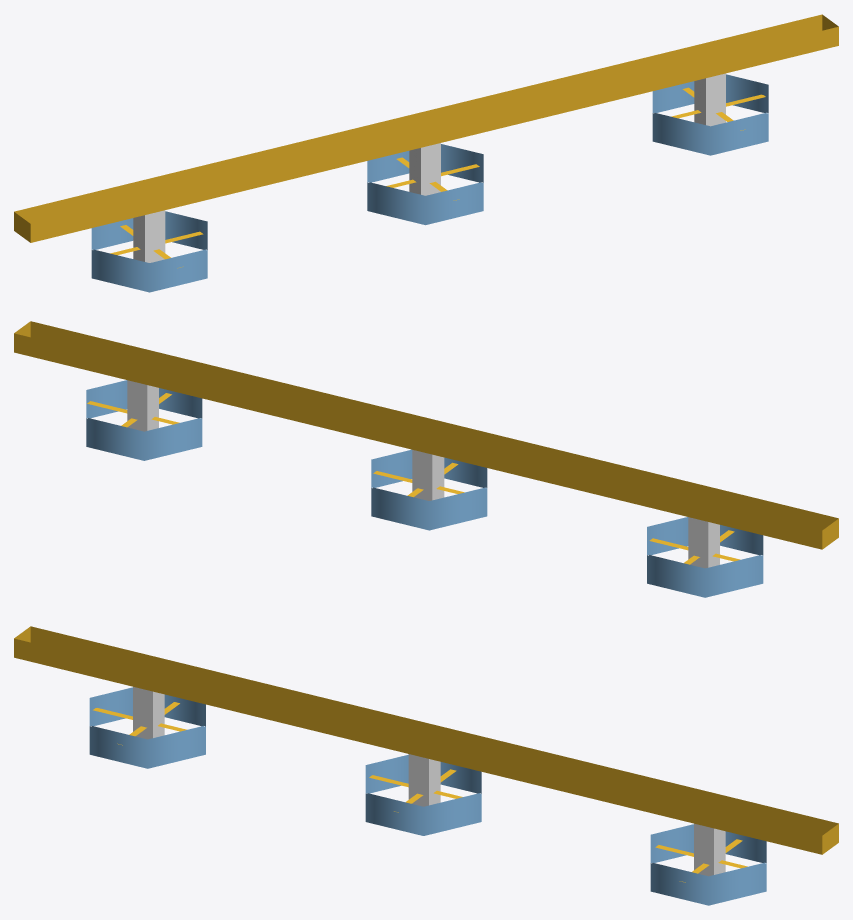
The model's file is M_cantingdeng04.FBX.
3 views of the same model, one above another, from view 1: azimuth 30°, elevation 25°; view 2: azimuth 150°, elevation 25°; view 3: azimuth 330°, elevation 25° (orthographic).
Visible parts, largest first — view 1: M_cantingdeng04_02, M_cantingdeng04_03, M_cantingdeng04_01; view 2: M_cantingdeng04_02, M_cantingdeng04_03, M_cantingdeng04_01; view 3: M_cantingdeng04_02, M_cantingdeng04_03, M_cantingdeng04_01.
Boxes of the visible parts, left/top/right/bottom form: M_cantingdeng04_02: left=14, top=14, right=838, bottom=268; M_cantingdeng04_03: left=91, top=74, right=768, bottom=292; M_cantingdeng04_01: left=133, top=73, right=725, bottom=262; M_cantingdeng04_02: left=14, top=321, right=838, bottom=564; M_cantingdeng04_03: left=86, top=380, right=763, bottom=597; M_cantingdeng04_01: left=127, top=380, right=719, bottom=568; M_cantingdeng04_02: left=14, top=626, right=838, bottom=882; M_cantingdeng04_03: left=89, top=687, right=766, bottom=905; M_cantingdeng04_01: left=133, top=686, right=725, bottom=876.
Size of the model in its own units: 3.43 by 0.3317 by 0.4295.
